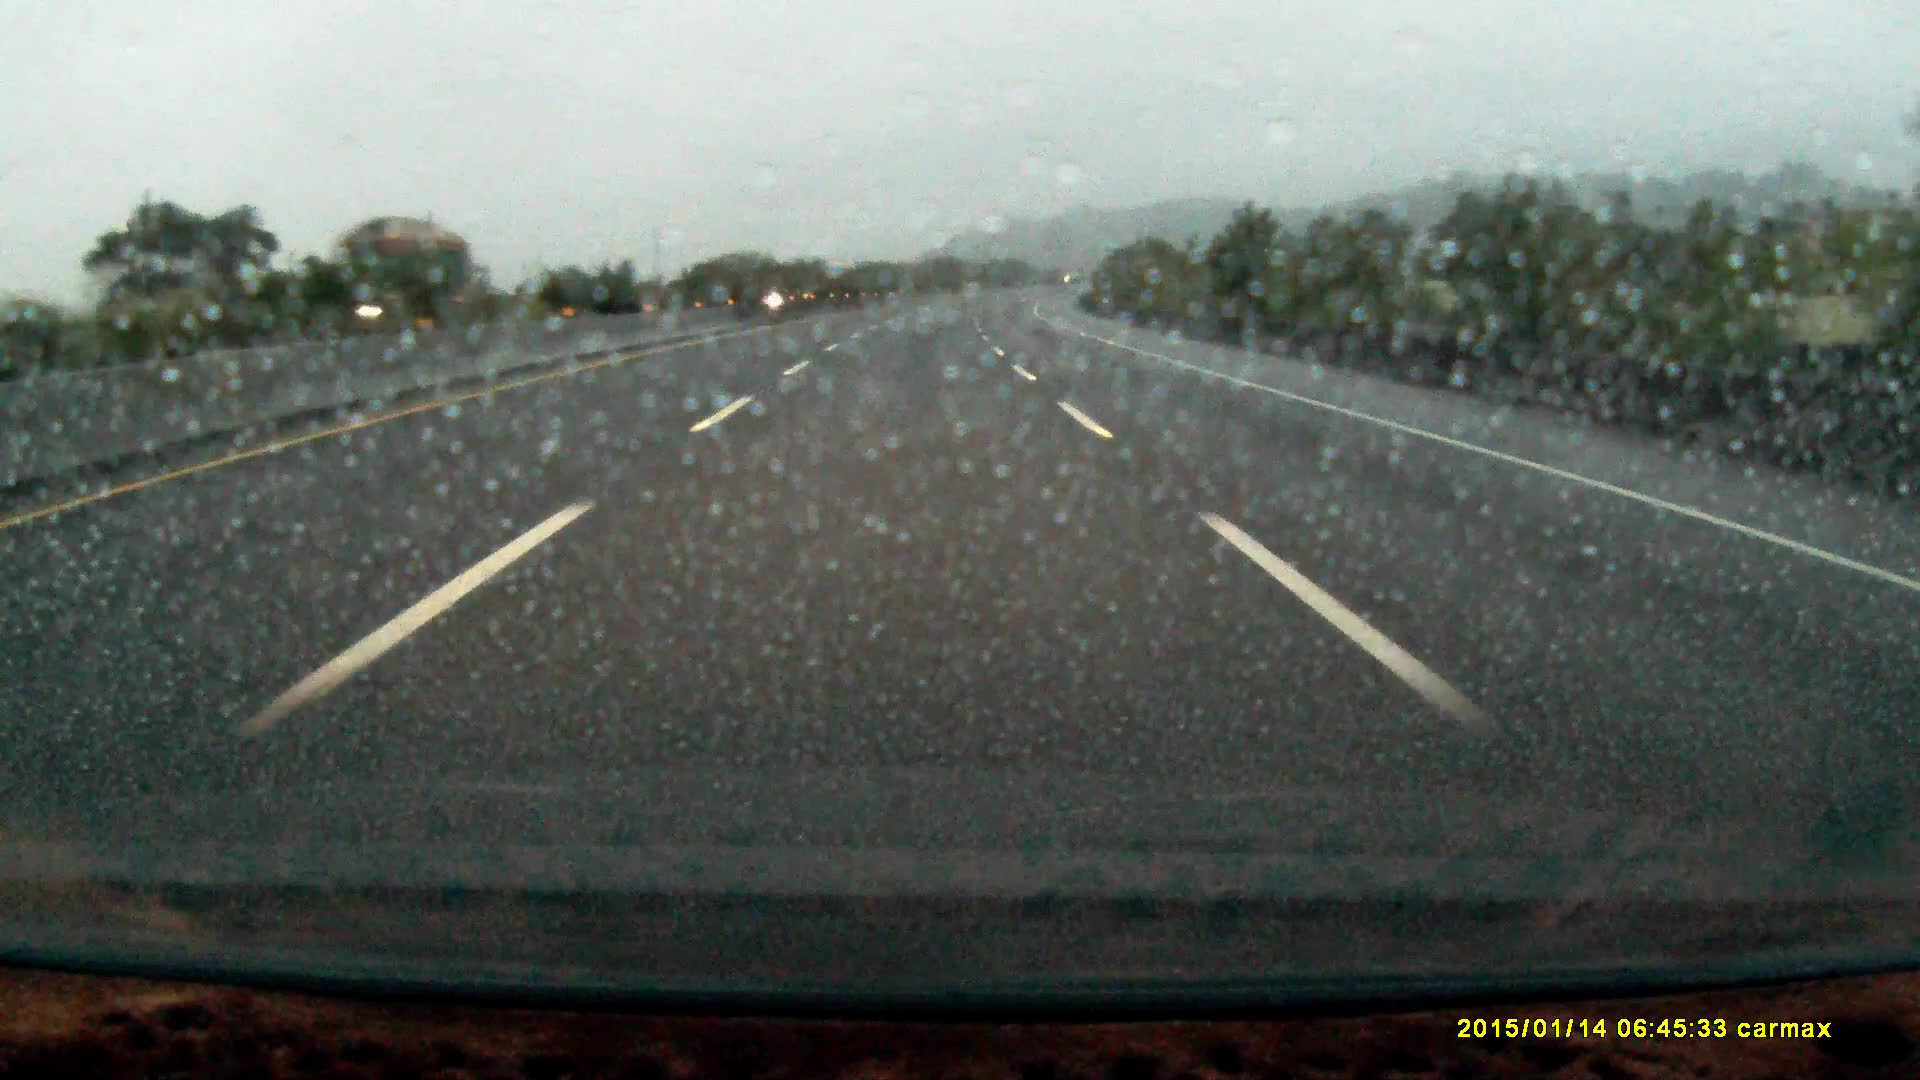vehicle: (320, 216, 469, 334)
